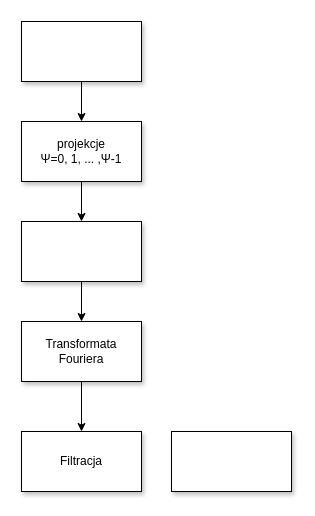
Some shapes in this 315 by 516 pixel diagram are drawn without their labels. The centre of each missing label's shape, as x and y in pixels:
"Pobranie danych wejściowych" belongs at point (82, 52).
"przeliczenie projekcji na punkty" belongs at point (82, 252).
